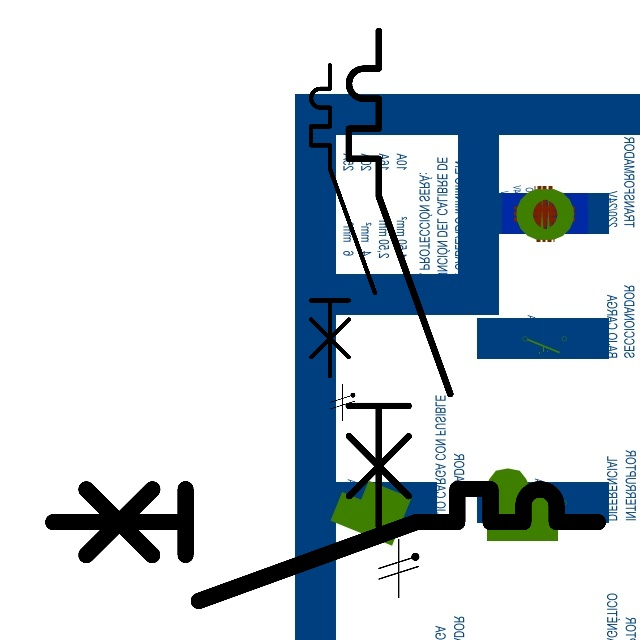interruptor_termomagnetico: (39, 475, 612, 615), (336, 18, 463, 538), (303, 57, 383, 384)
